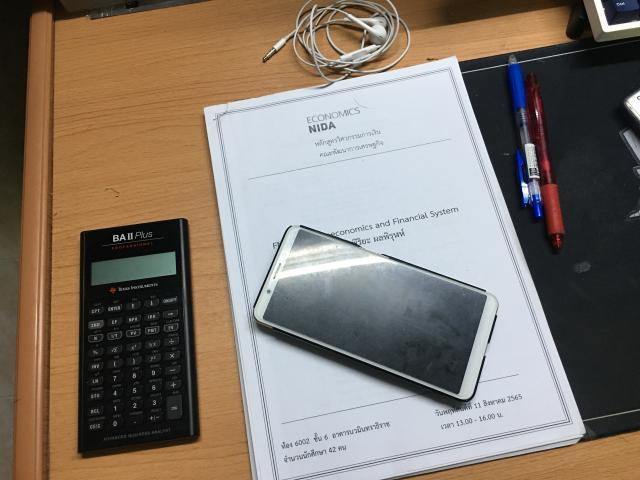Mobile phone: (254, 225, 498, 401)
Pen: (507, 65, 565, 252)
paper: (205, 56, 584, 479)
wire: (262, 0, 410, 82)
